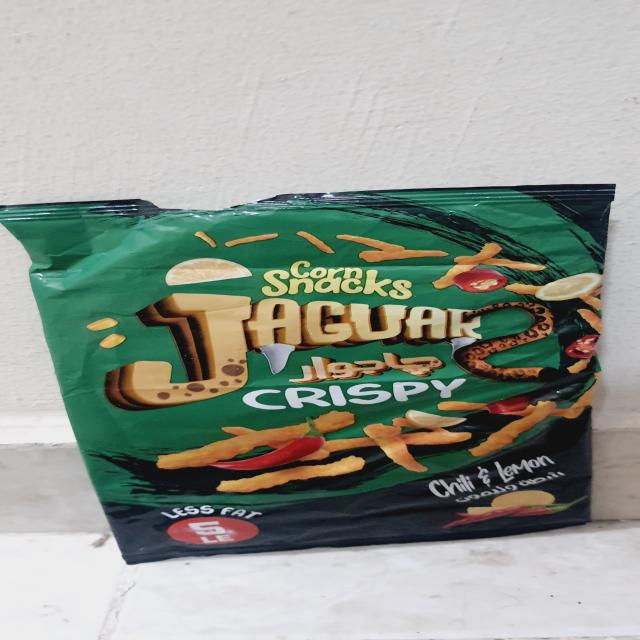Metal: (4, 184, 615, 564)
